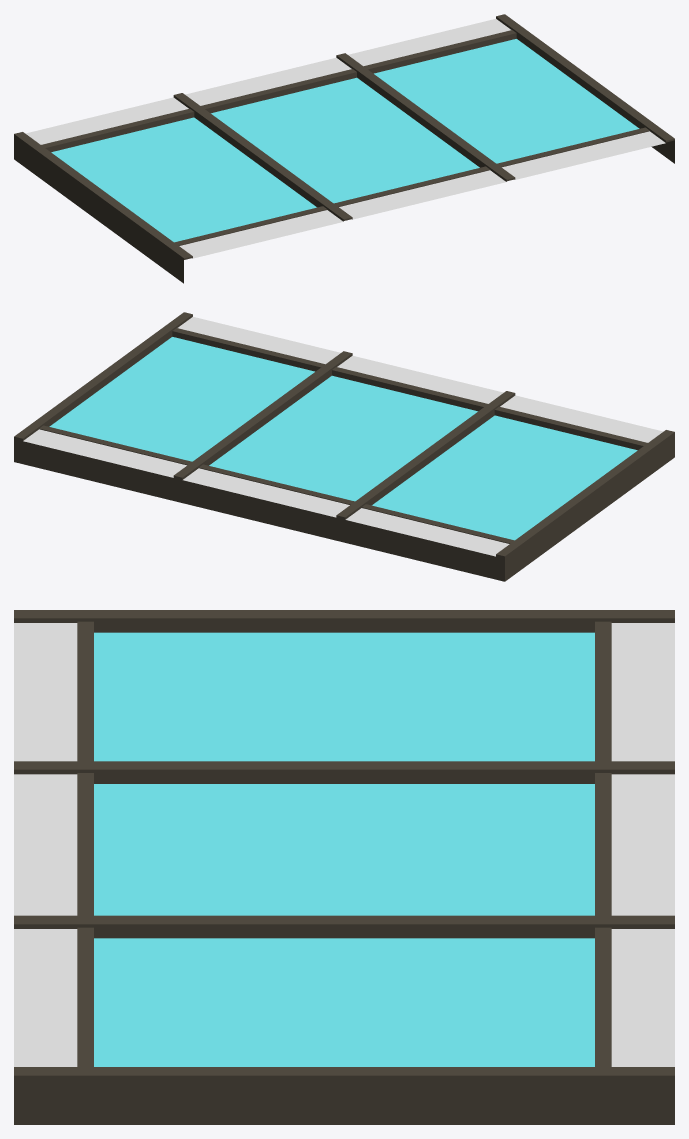
File: P_F_OLDType1SansBF.fbx
3 renders of one model, top to bottom at view 1: azimuth 30°, elevation 25°; view 2: azimuth 150°, elevation 25°; view 3: azimuth 270°, elevation 25°, orthographic. The views are drawn at different scales.
Visible parts, largest first — view 1: P_F_OLDType1SansBF; view 2: P_F_OLDType1SansBF; view 3: P_F_OLDType1SansBF.
Part boxes in pixels (bbox=[...]): P_F_OLDType1SansBF: bbox=[14, 14, 674, 283]; P_F_OLDType1SansBF: bbox=[14, 312, 674, 581]; P_F_OLDType1SansBF: bbox=[14, 610, 674, 1124].
Bounding box in the file's own units: 650 × 32.17 × 390.
